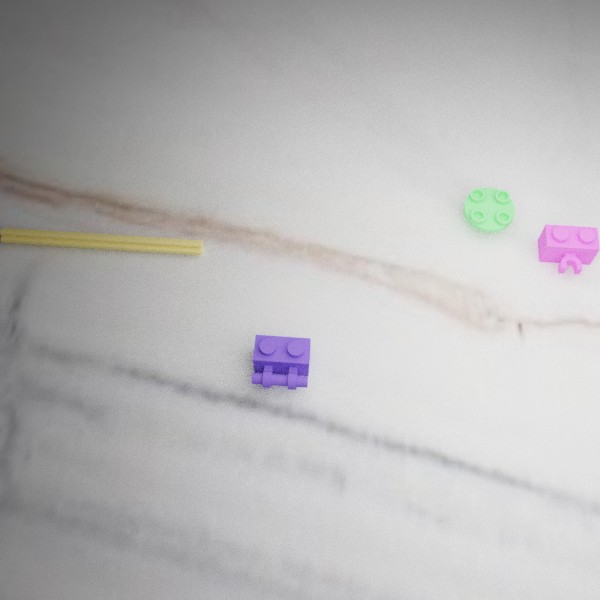lego: (0, 227, 203, 255), (251, 334, 310, 389), (537, 224, 600, 274), (463, 187, 515, 232)
